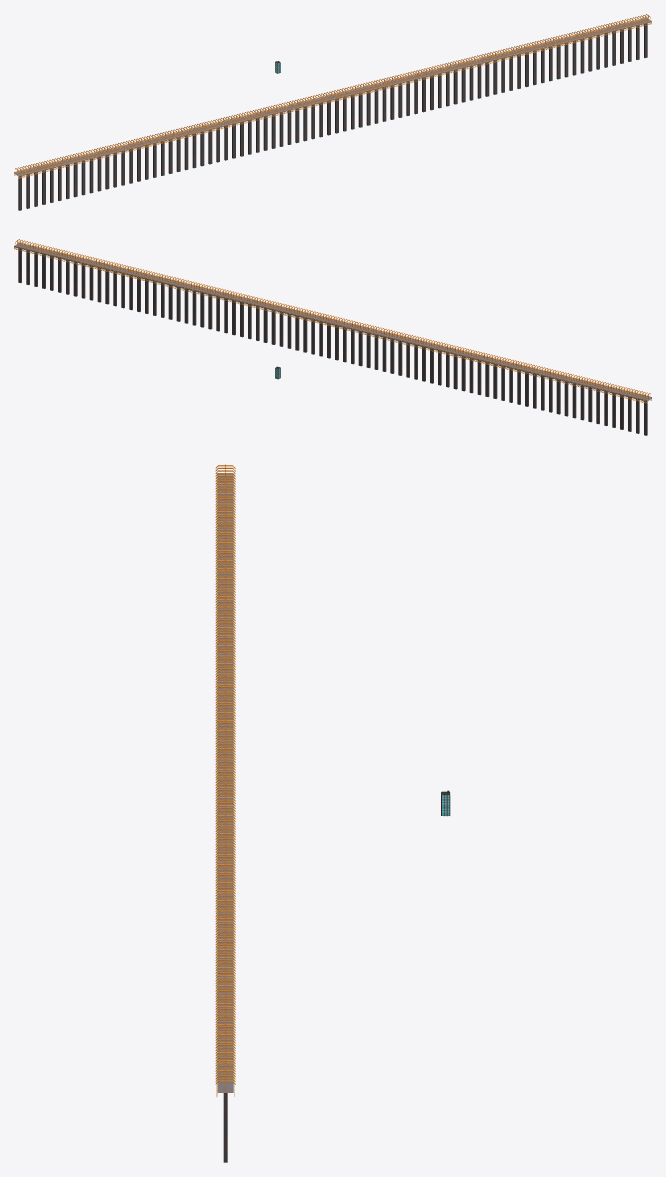
The model's file is grass.glb.
3 views of the same model, one above another, from view 1: azimuth 30°, elevation 25°; view 2: azimuth 150°, elevation 25°; view 3: azimuth 270°, elevation 25° (orthographic). The views are drawn at different scales.
Visible parts, largest first — view 1: trainBridge; view 2: trainBridge; view 3: trainBridge.
Part boxes in pixels (x1,y1,x2,y2): trainBridge: (14, 14, 651, 210); trainBridge: (14, 239, 651, 435); trainBridge: (215, 464, 235, 1162).
Bounding box in the file's own units: 3200 × 202 × 514.
2 materials, 2 textured.
